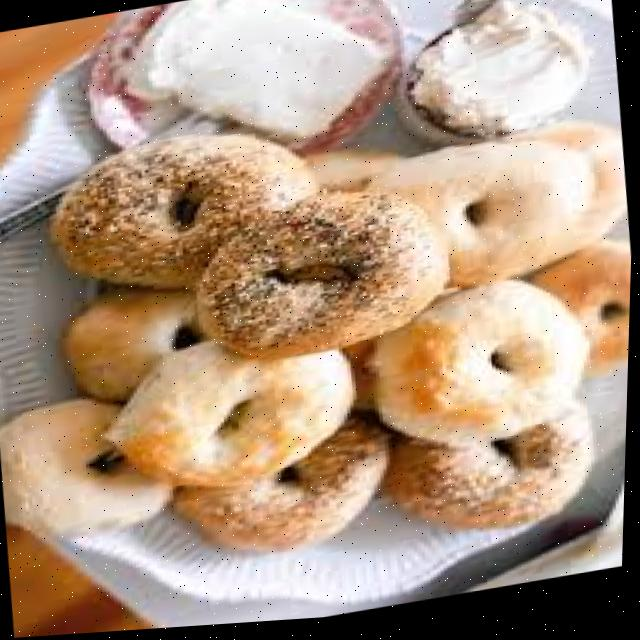Bagel: (200, 197, 448, 363), (53, 139, 319, 288), (107, 346, 357, 490), (373, 287, 591, 449), (368, 149, 591, 292), (178, 422, 389, 555), (387, 411, 593, 535), (1, 402, 173, 539), (66, 295, 195, 403), (533, 249, 633, 385)
